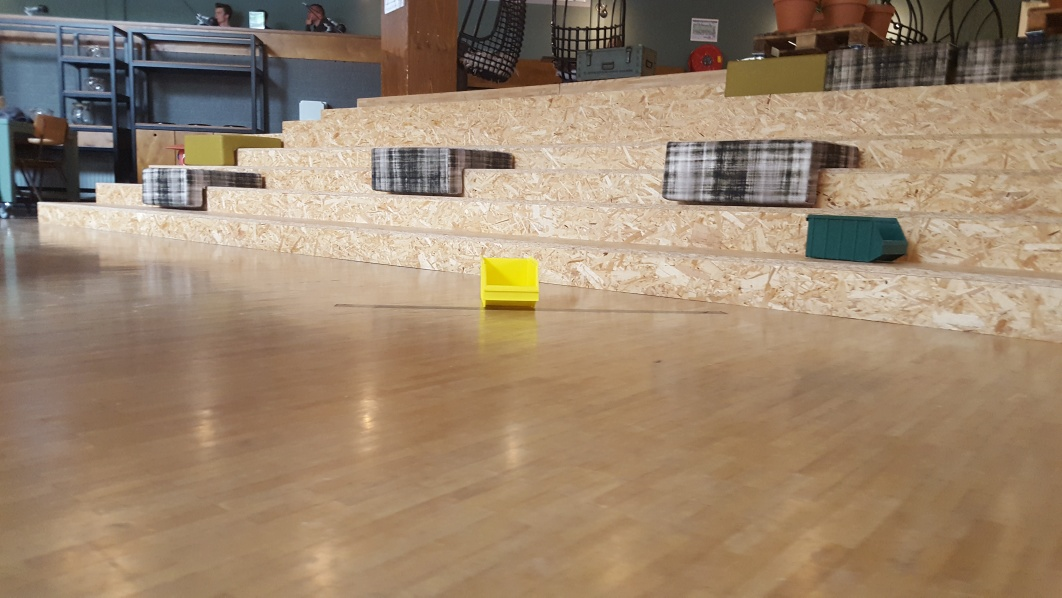tray: (802, 212, 909, 265), (478, 252, 546, 312)
